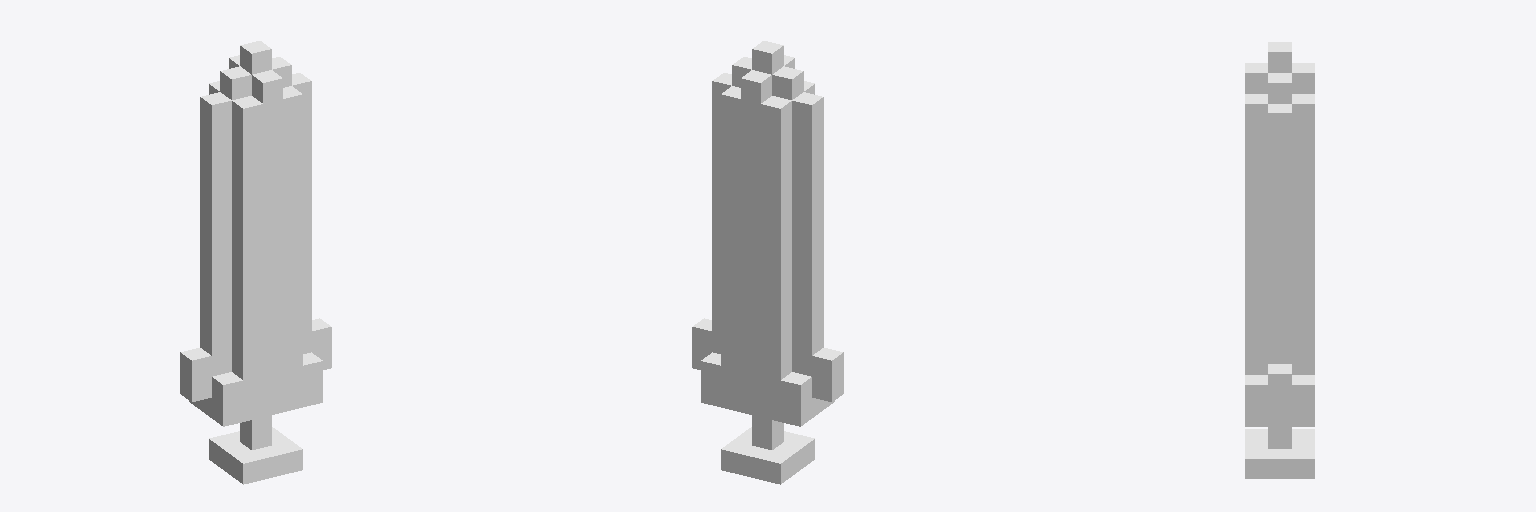
The model's file is fabianSword.obj.
3 views of the same model, side by side, from view 1: azimuth 30°, elevation 25°; view 2: azimuth 150°, elevation 25°; view 3: azimuth 270°, elevation 25° (orthographic).
Bounding box in the file's own units: 7 × 20 × 3.